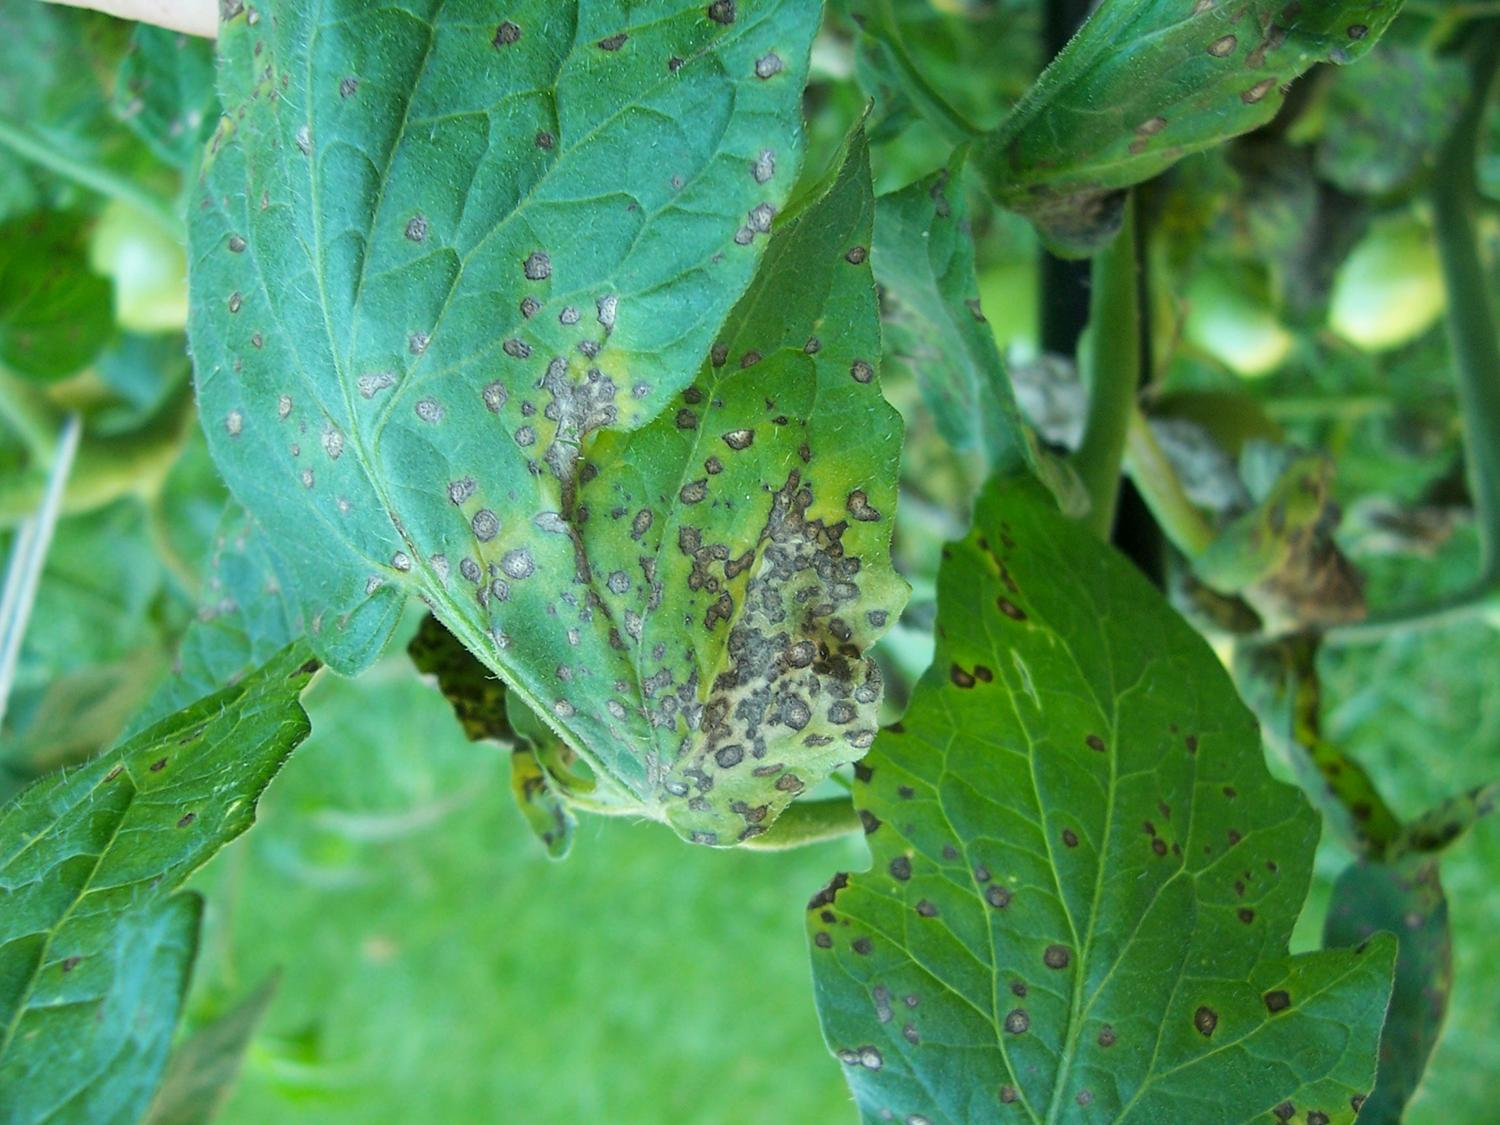Tomato Septoria leaf spot: (191, 0, 883, 856), (776, 446, 1394, 1124)
